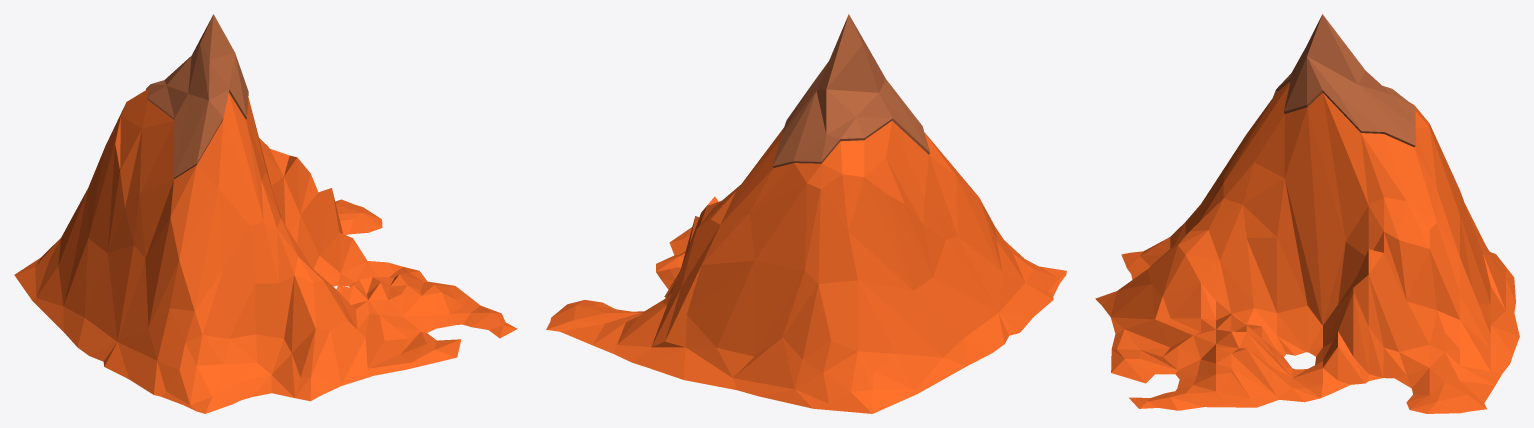
The model's file is RAS_Mountain02.fbx.
3 renders of one model, left to right at view 1: azimuth 30°, elevation 25°; view 2: azimuth 150°, elevation 25°; view 3: azimuth 270°, elevation 25°, orthographic. The views are drawn at different scales.
Visible parts, largest first — view 1: RAS_Mountain02; view 2: RAS_Mountain02; view 3: RAS_Mountain02.
Part boxes in pixels (x1,y1,x2,y2): RAS_Mountain02: (14, 14, 517, 413); RAS_Mountain02: (546, 14, 1066, 413); RAS_Mountain02: (1095, 14, 1519, 413).
Size of the model in its own units: 607 by 481 by 631.
Materials: 1 (1 with a texture image).
